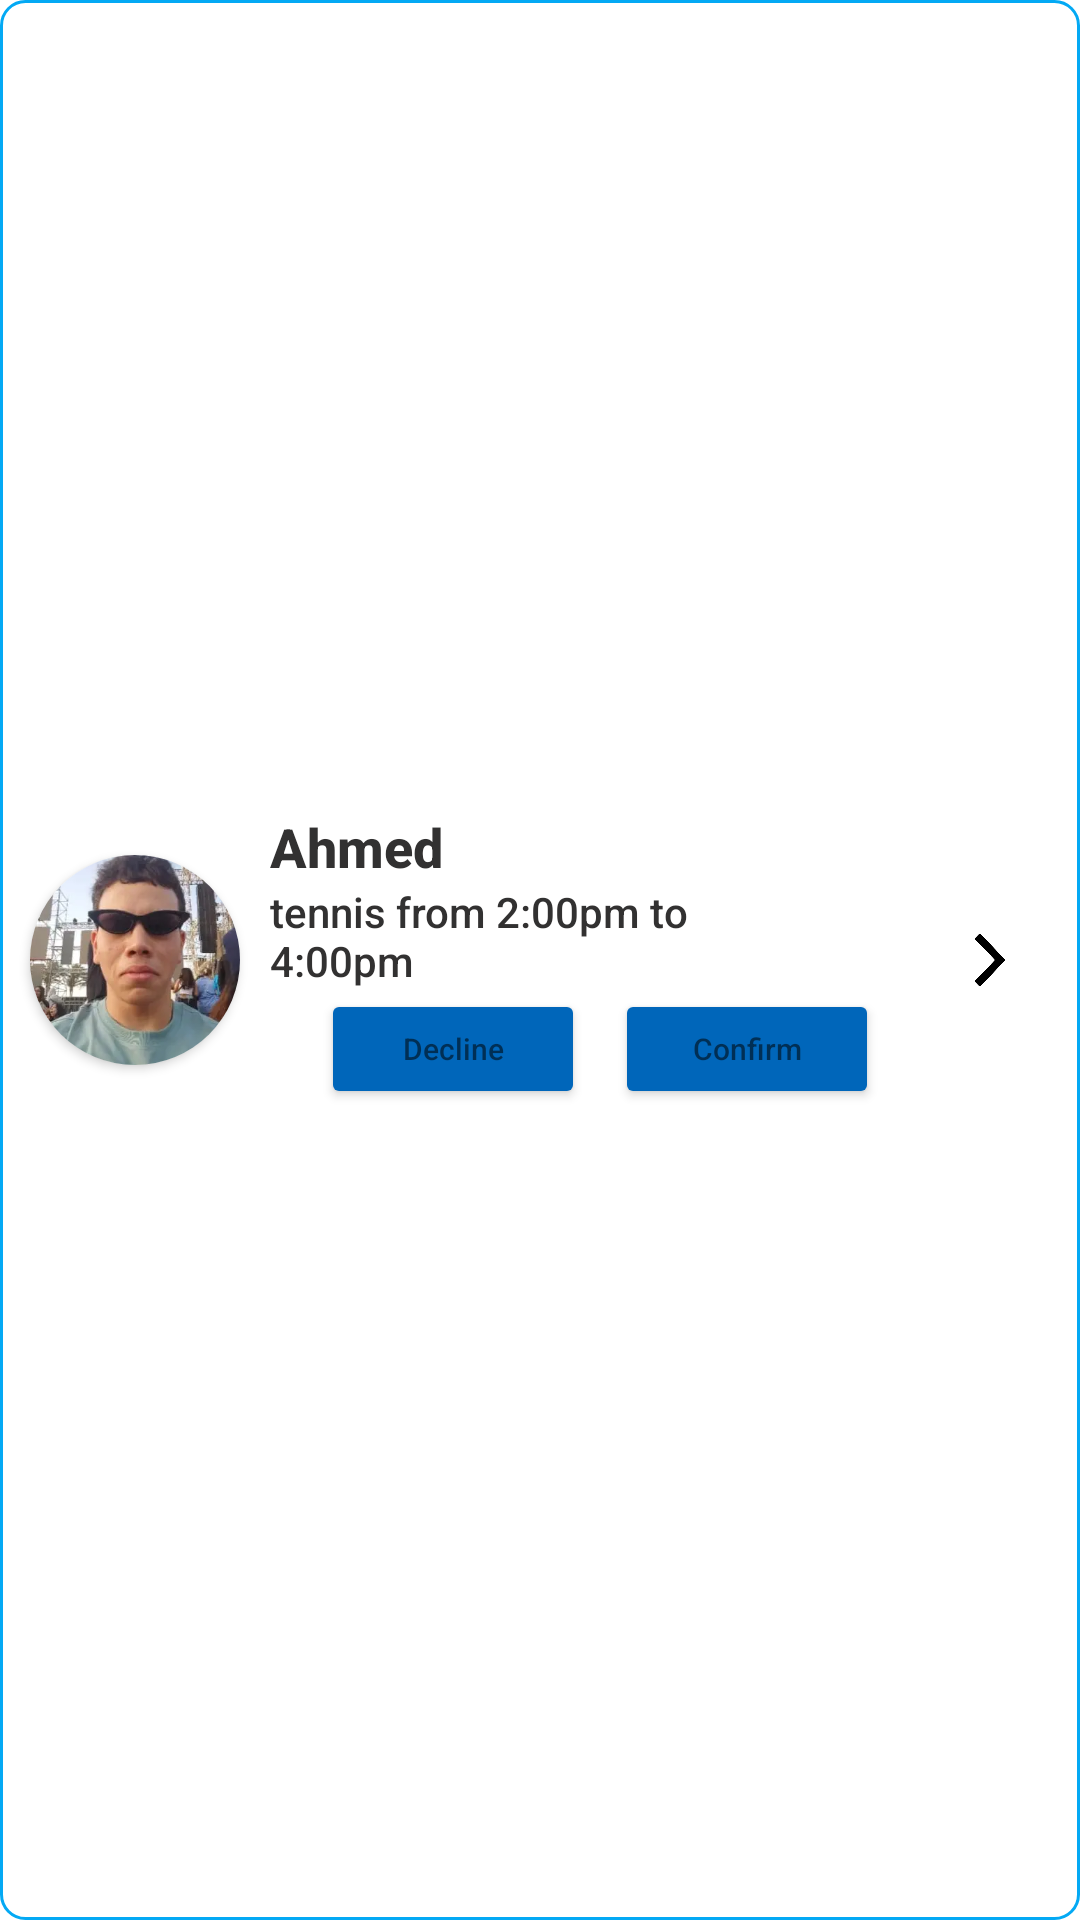

Icons on this 1080px×1920px Android screen, each with its box as {"left": x1, "top": y1, "right": x2, "bottom": y2}:
arrow: {"left": 975, "top": 934, "right": 1005, "bottom": 986}
